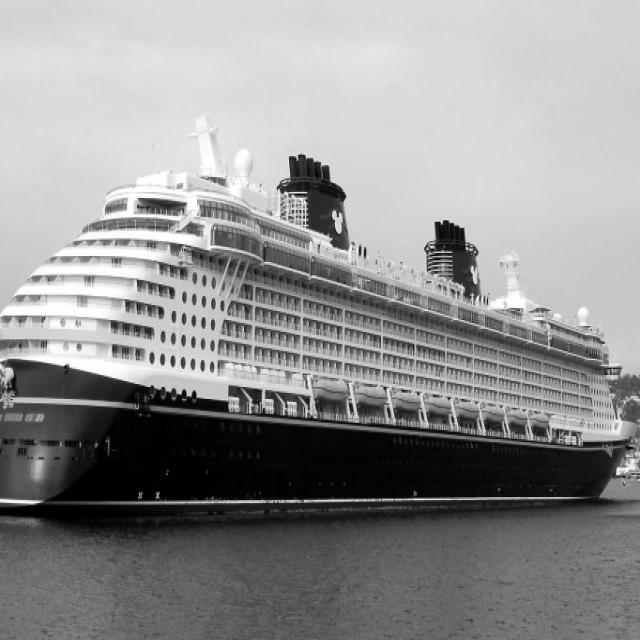cruises: (1, 111, 640, 527)
